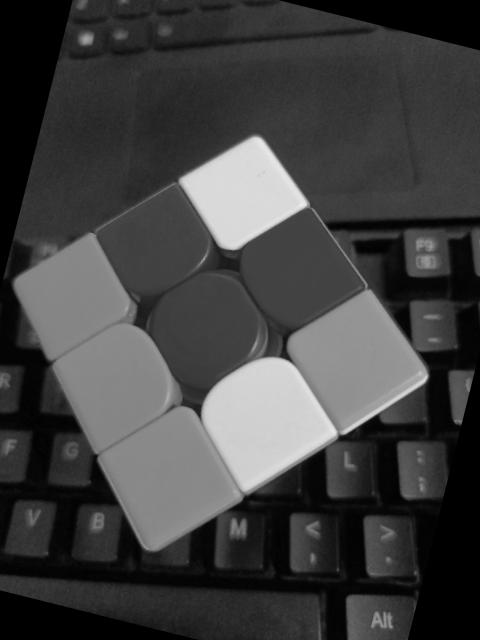rubik: (0, 83, 476, 606)
